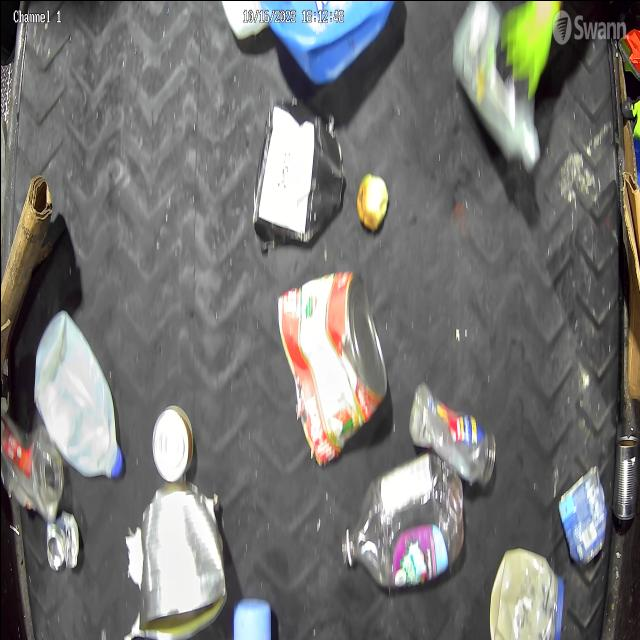can: (276, 271, 388, 467), (138, 484, 226, 640), (150, 402, 194, 482), (611, 435, 640, 518), (44, 510, 80, 570)
milk_jug: (451, 0, 540, 173), (33, 310, 123, 477)
non_white_jug: (258, 0, 394, 84)
plastic_bottle: (340, 451, 464, 586), (408, 381, 496, 485)
